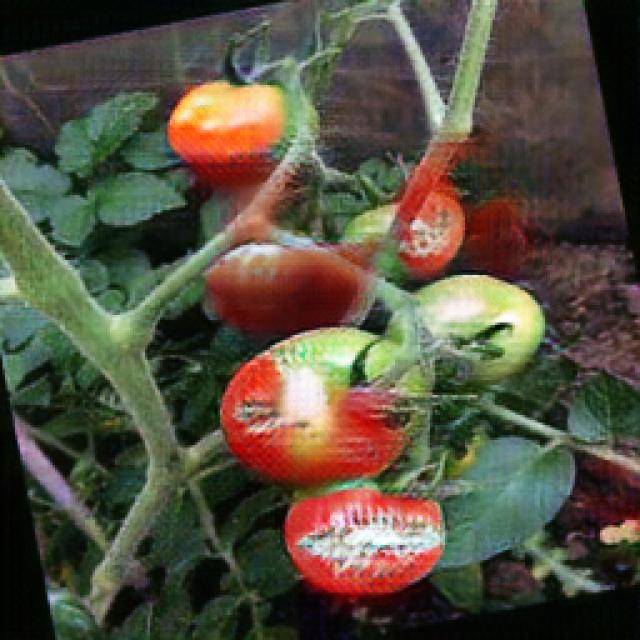overripe tomato: (220, 326, 422, 478), (287, 488, 447, 596)
